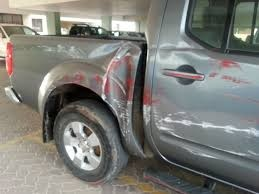Dent: (100, 46, 141, 113)
Scratch: (153, 109, 259, 142)
